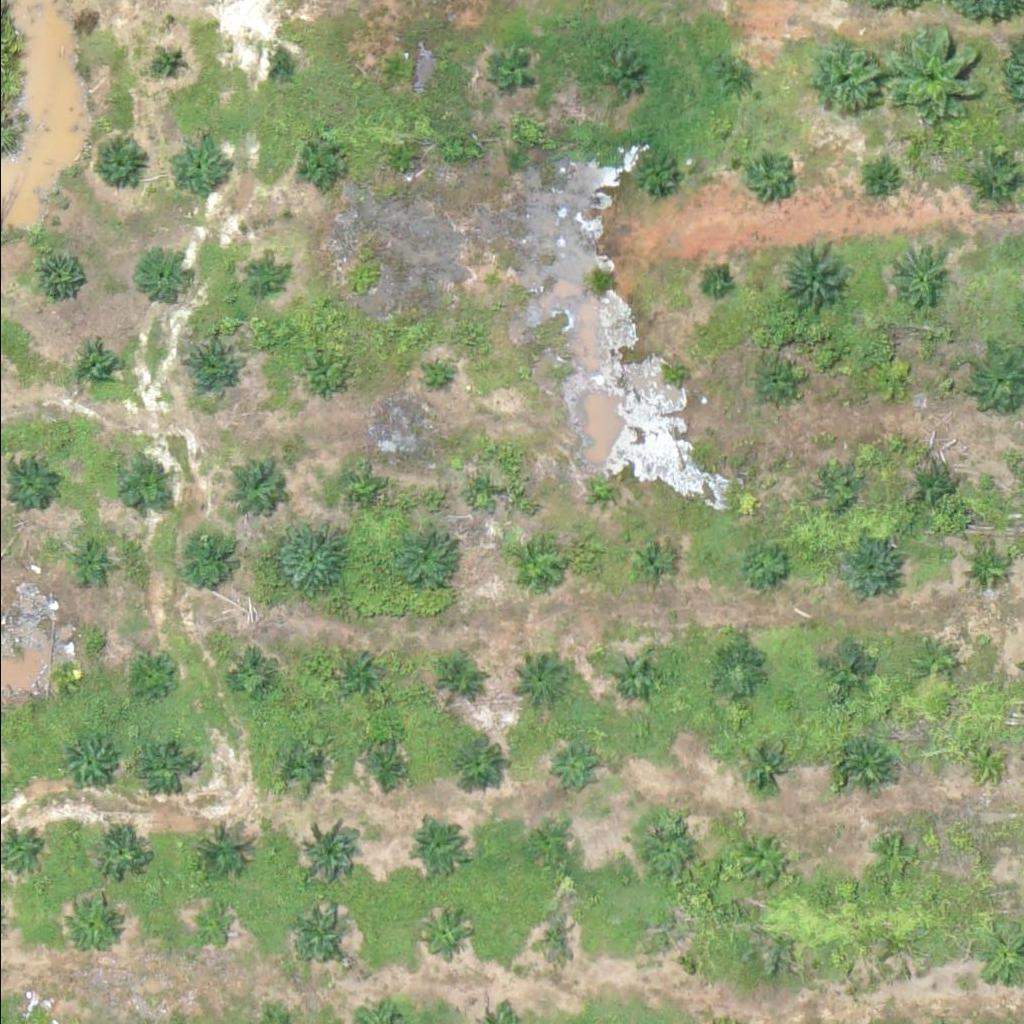Kelapa_Sawit: (887, 27, 988, 127), (799, 34, 887, 122), (387, 519, 463, 594), (169, 523, 245, 598), (273, 523, 349, 598), (775, 240, 851, 315), (227, 452, 290, 515), (131, 737, 194, 800), (181, 337, 244, 400), (507, 653, 570, 716), (636, 811, 699, 874), (838, 540, 901, 603), (438, 732, 501, 795), (400, 816, 463, 878), (187, 817, 250, 879), (286, 904, 349, 966), (303, 820, 366, 882), (886, 248, 949, 310), (84, 131, 147, 193), (166, 135, 229, 197), (834, 735, 897, 797), (733, 829, 796, 891), (53, 734, 115, 796), (419, 910, 470, 960), (134, 251, 185, 301), (33, 248, 84, 298), (69, 339, 120, 389), (297, 141, 348, 191), (711, 647, 762, 697), (829, 645, 880, 695), (907, 465, 958, 515), (964, 541, 1015, 591), (813, 466, 864, 516), (867, 354, 918, 404), (740, 542, 791, 592), (740, 740, 791, 790), (525, 914, 576, 964), (527, 826, 578, 876), (550, 744, 601, 794), (608, 652, 659, 702), (115, 463, 165, 513), (5, 459, 55, 509), (132, 649, 182, 699), (228, 648, 278, 698), (97, 830, 147, 880), (65, 900, 115, 950), (970, 155, 1020, 205), (507, 541, 557, 591), (870, 835, 920, 885), (910, 638, 960, 688), (747, 360, 797, 410), (362, 742, 412, 792), (278, 744, 328, 794), (342, 650, 392, 700), (437, 655, 487, 705), (624, 537, 674, 587), (741, 149, 791, 199), (627, 152, 677, 202), (488, 49, 538, 99), (595, 49, 645, 99), (709, 56, 759, 106), (71, 541, 109, 579), (241, 254, 279, 292), (968, 744, 1006, 782), (192, 905, 230, 943), (298, 359, 336, 396), (961, 842, 999, 879), (663, 925, 701, 962), (150, 46, 188, 83), (375, 50, 412, 88), (380, 143, 418, 180), (702, 269, 728, 294), (346, 481, 372, 506), (592, 474, 617, 499), (464, 479, 489, 504), (421, 362, 446, 387), (665, 362, 690, 387), (56, 662, 81, 687), (266, 52, 291, 77), (867, 170, 892, 195), (476, 268, 501, 293)
